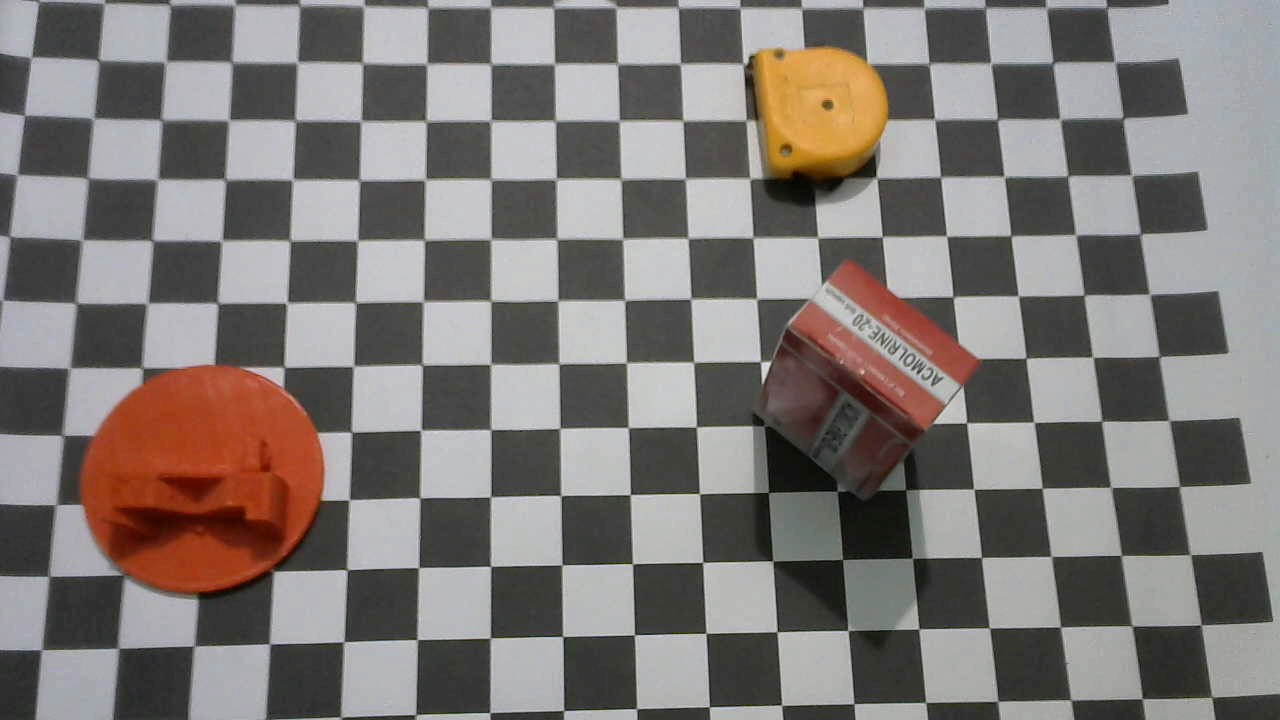blue: (738, 45, 887, 184)
green: (81, 362, 327, 597)
red: (758, 268, 980, 503)
